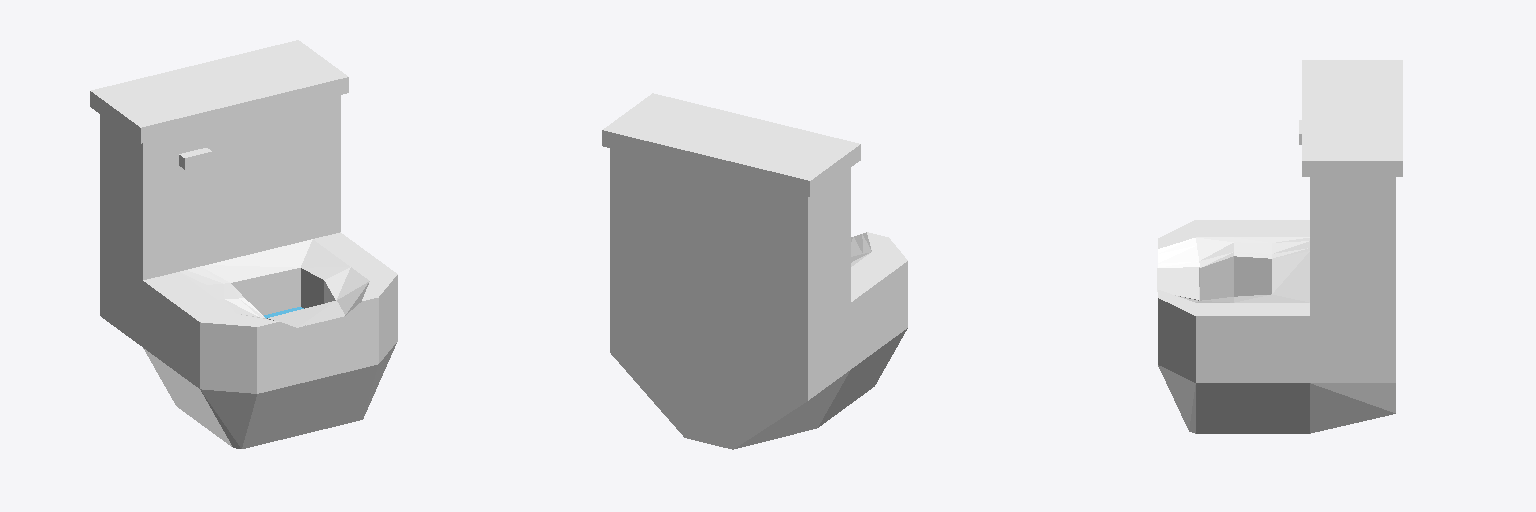
3 renders of one model, left to right at view 1: azimuth 30°, elevation 25°; view 2: azimuth 150°, elevation 25°; view 3: azimuth 270°, elevation 25°, orthographic.
Visible parts, largest first — view 1: Cube; view 2: Cube; view 3: Cube.
Part boxes in pixels (x1,y1,x2,y2): Cube: (90, 40, 397, 448); Cube: (602, 93, 907, 449); Cube: (1157, 60, 1402, 433).
Bounding box in the file's own units: 2.11 × 2.81 × 2.16.
1 materials, 1 textured.